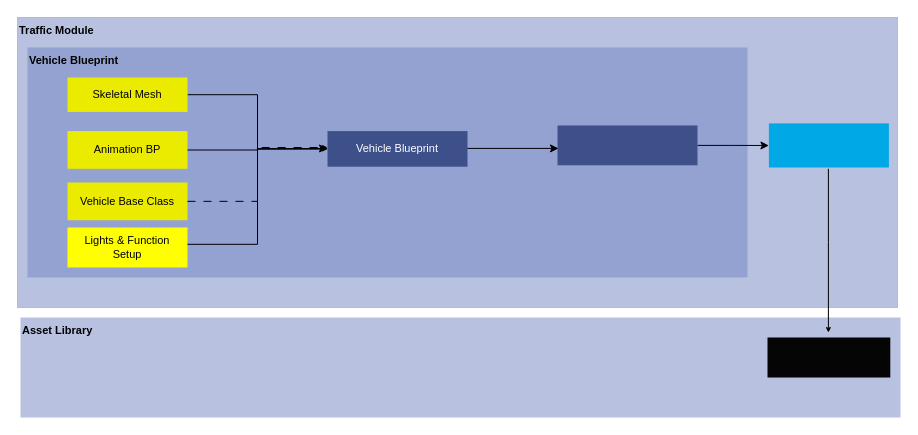
This 918x435 diagram has some shape labels left out. The shapes that lost their labels are listed below. From the top down, each one's centre as x and y in pixels, then its label:
the point at 627,145: Prebuilt 3D Maps, XOSC pipeline
the point at 828,145: Working Vehicle BPs
the point at 828,357: Blueprint saved in Asset Library
